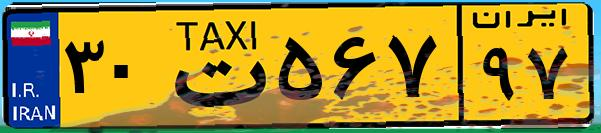0: (110, 28, 158, 98)
3: (57, 26, 110, 100)
5: (270, 28, 330, 110)
6: (330, 28, 385, 110)
7: (385, 28, 445, 110), (525, 38, 570, 115)
9: (475, 38, 525, 113)
ت: (158, 12, 270, 120)
